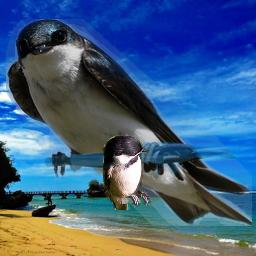Swallow: (6, 19, 252, 226), (101, 133, 152, 210)
